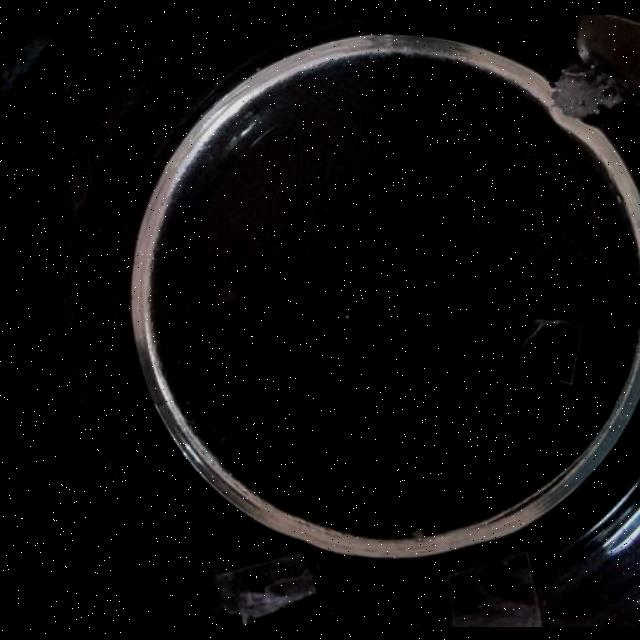Film: (546, 14, 640, 114), (205, 548, 322, 618), (451, 548, 543, 626), (514, 316, 584, 386)
